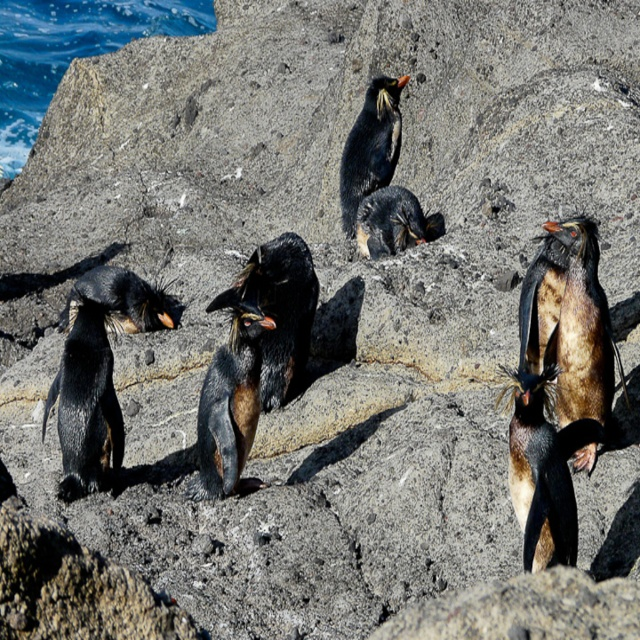Penguin: (42, 75, 640, 575)
